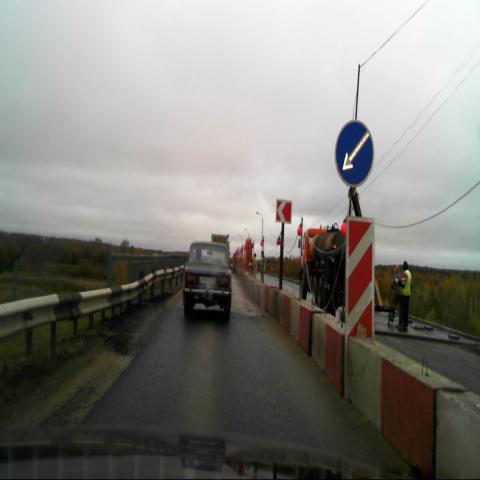4_2_2: (334, 119, 374, 188)
